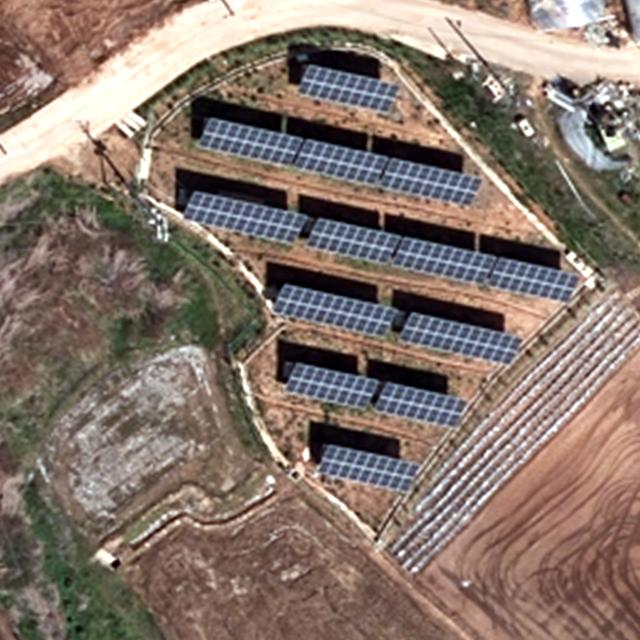panel: (265, 275, 396, 352), (395, 302, 524, 378), (179, 181, 309, 255), (389, 225, 495, 293), (303, 207, 403, 277), (382, 142, 482, 210), (280, 357, 378, 424), (189, 112, 300, 171), (312, 442, 419, 503), (294, 60, 402, 120), (376, 373, 470, 439), (485, 246, 581, 308), (293, 130, 387, 192)
